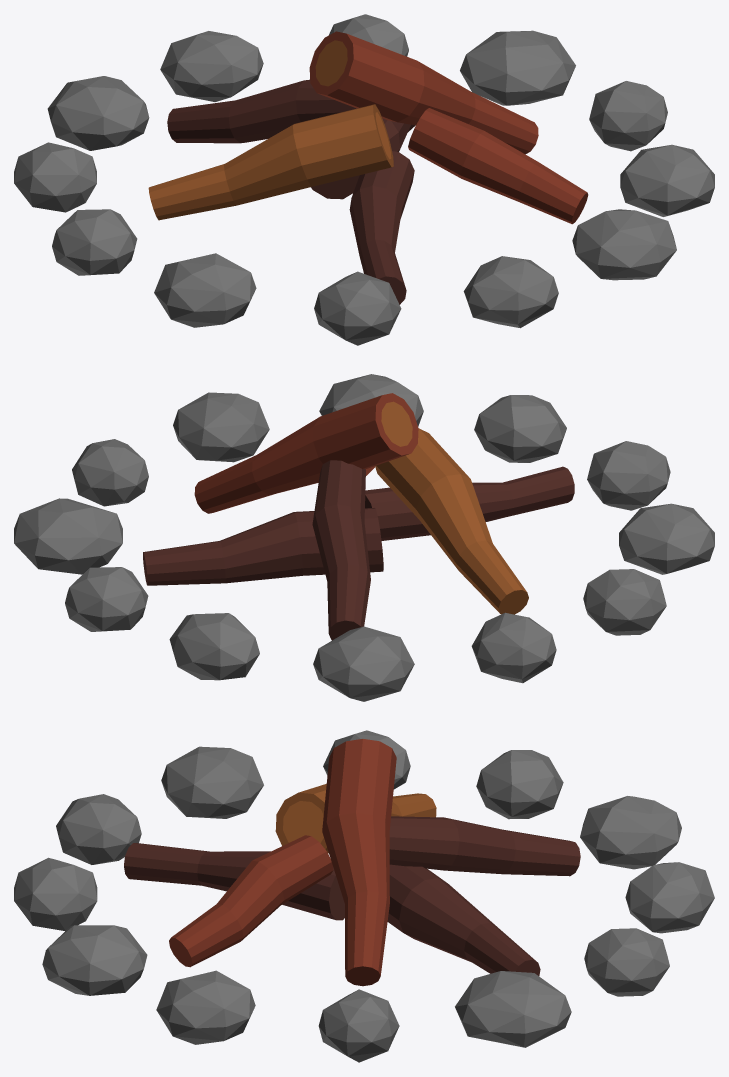
Rendered from bonfire.fbx.
3 views of the same model, one above another, from view 1: azimuth 30°, elevation 25°; view 2: azimuth 150°, elevation 25°; view 3: azimuth 270°, elevation 25° (orthographic). The views are drawn at different scales.
Parts seen in each view (by area): view 1: Cylinder.001, Cylinder, Cylinder.003, Cylinder.002, Icosphere.011, Icosphere.002, Icosphere.008, Cylinder.005, Icosphere.005, Icosphere.009, Icosphere.001, Icosphere.003 (+6 smaller); view 2: Cylinder, Cylinder.001, Cylinder.004, Cylinder.002, Icosphere.011, Cylinder.005, Icosphere.008, Icosphere.005, Icosphere.001, Icosphere.003, Icosphere.009, Icosphere.007 (+5 smaller); view 3: Cylinder, Cylinder.002, Cylinder.003, Cylinder.004, Icosphere.011, Cylinder.005, Icosphere.002, Icosphere.005, Icosphere.008, Icosphere.001, Icosphere.009, Icosphere.003 (+6 smaller).
Boxes of the visible parts, x1=… form: Cylinder.001: x1=148, y1=104, x2=393, y2=220; Cylinder: x1=309, y1=31, x2=538, y2=154; Cylinder.003: x1=408, y1=108, x2=588, y2=224; Cylinder.002: x1=167, y1=79, x2=387, y2=143; Icosphere.011: x1=460, y1=30, x2=575, y2=105; Icosphere.002: x1=572, y1=209, x2=676, y2=280; Icosphere.008: x1=47, y1=76, x2=149, y2=150; Cylinder.005: x1=349, y1=151, x2=414, y2=304; Icosphere.005: x1=154, y1=253, x2=256, y2=327; Icosphere.009: x1=160, y1=31, x2=263, y2=101; Icosphere.001: x1=620, y1=144, x2=714, y2=216; Icosphere.003: x1=463, y1=256, x2=558, y2=328; Cylinder: x1=194, y1=393, x2=418, y2=513; Cylinder.001: x1=375, y1=428, x2=528, y2=614; Cylinder.004: x1=143, y1=508, x2=383, y2=585; Cylinder.002: x1=312, y1=460, x2=370, y2=640; Icosphere.011: x1=14, y1=498, x2=122, y2=574; Cylinder.005: x1=365, y1=466, x2=574, y2=540; Icosphere.008: x1=313, y1=626, x2=414, y2=701; Icosphere.005: x1=619, y1=503, x2=714, y2=574; Icosphere.001: x1=173, y1=392, x2=269, y2=462; Icosphere.003: x1=474, y1=395, x2=566, y2=462; Icosphere.009: x1=169, y1=613, x2=259, y2=680; Icosphere.007: x1=471, y1=612, x2=556, y2=683; Cylinder: x1=322, y1=739, x2=396, y2=986; Cylinder.002: x1=389, y1=816, x2=580, y2=876; Cylinder.003: x1=169, y1=835, x2=333, y2=967; Cylinder.004: x1=387, y1=864, x2=540, y2=975; Icosphere.011: x1=455, y1=971, x2=571, y2=1047; Cylinder.005: x1=124, y1=843, x2=344, y2=920; Icosphere.002: x1=42, y1=925, x2=147, y2=995; Icosphere.005: x1=161, y1=746, x2=263, y2=818; Icosphere.008: x1=580, y1=796, x2=681, y2=869; Icosphere.001: x1=156, y1=970, x2=255, y2=1044; Icosphere.009: x1=625, y1=862, x2=714, y2=933; Icosphere.003: x1=14, y1=857, x2=97, y2=930.
Size of the model in its own units: 1787 by 513 by 1803.
